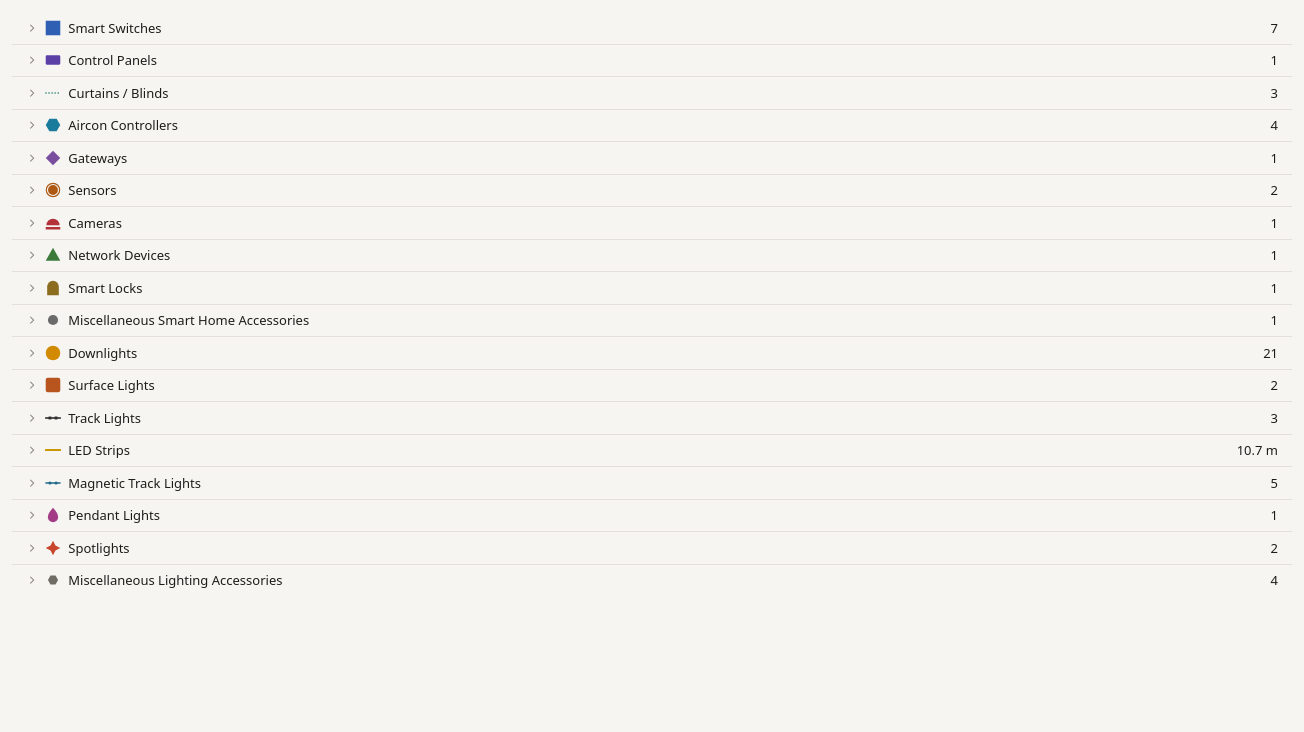
Test: LiveTotals › lists Smart LED Driver as auto-added with the sample count
The image size is (1304, 732).
Click the button "Miscellaneous Lighting Accessories 4".
click(175, 580)  # box x1=12 y1=564 x2=1292 y2=596
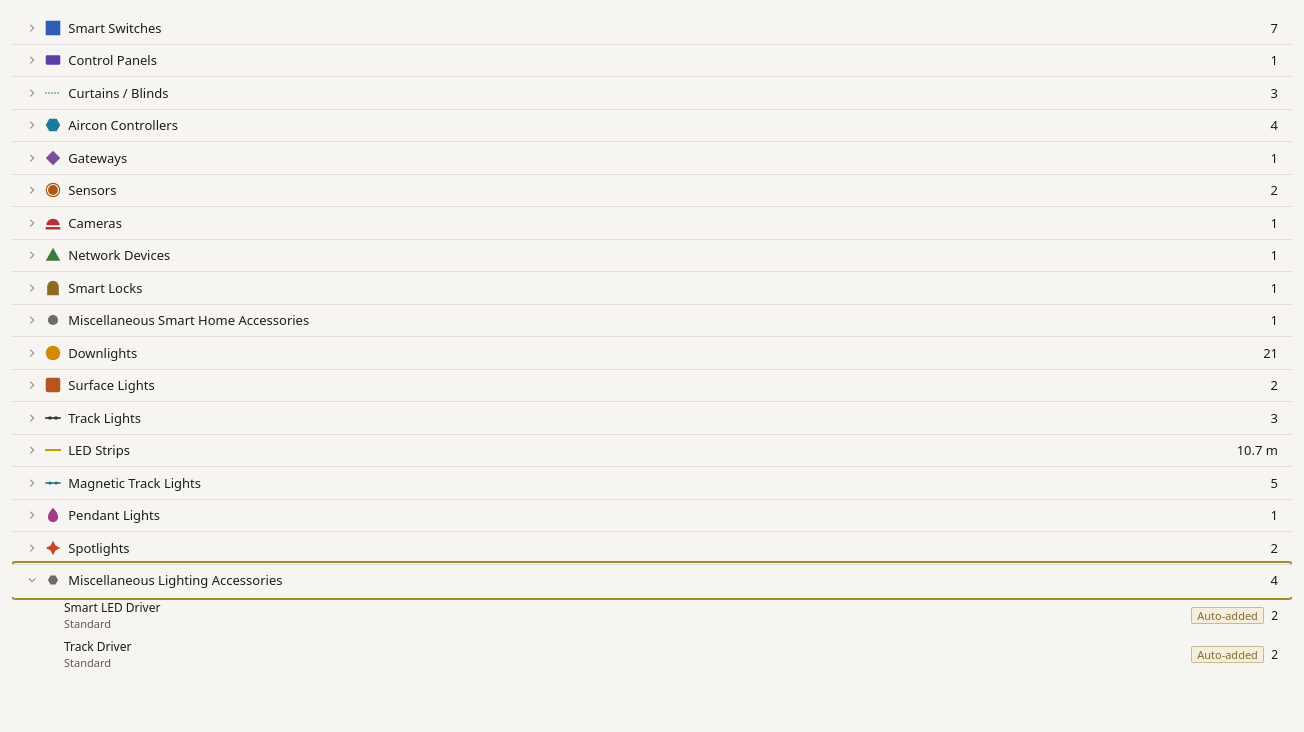
Now the text "Auto-added" in the row of "Smart LED Driver" is shown, box x1=1197 y1=608 x2=1258 y2=622
